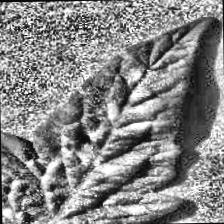leaf mold: (0, 16, 216, 224)
